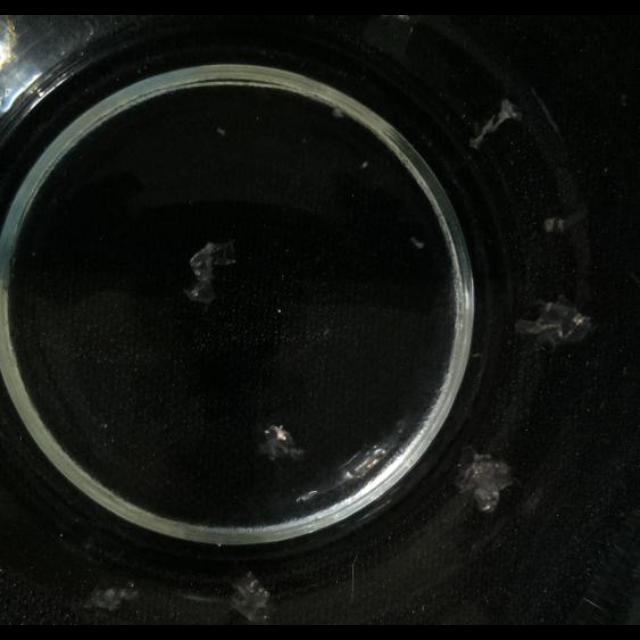Fibre: (516, 298, 594, 348), (455, 452, 515, 512), (471, 100, 521, 148), (229, 570, 273, 622), (85, 582, 141, 614), (544, 216, 566, 234), (409, 237, 425, 251), (330, 106, 346, 118)
Fragment: (183, 240, 237, 304), (256, 423, 306, 462)
